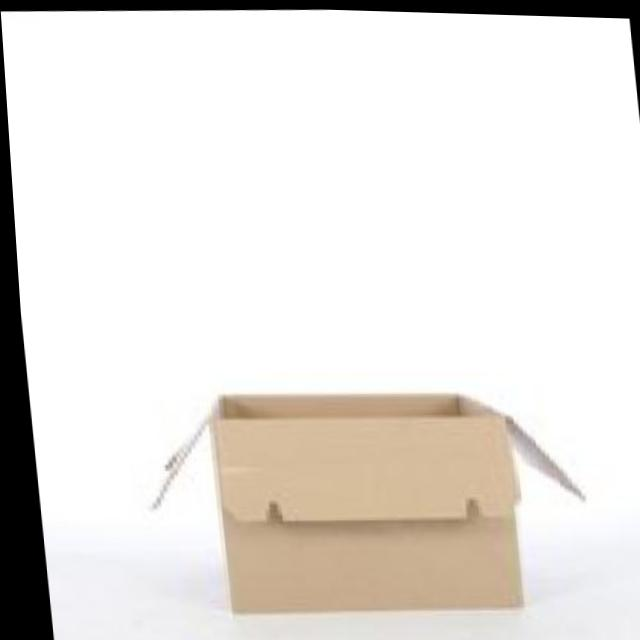box: (125, 367, 606, 640)
